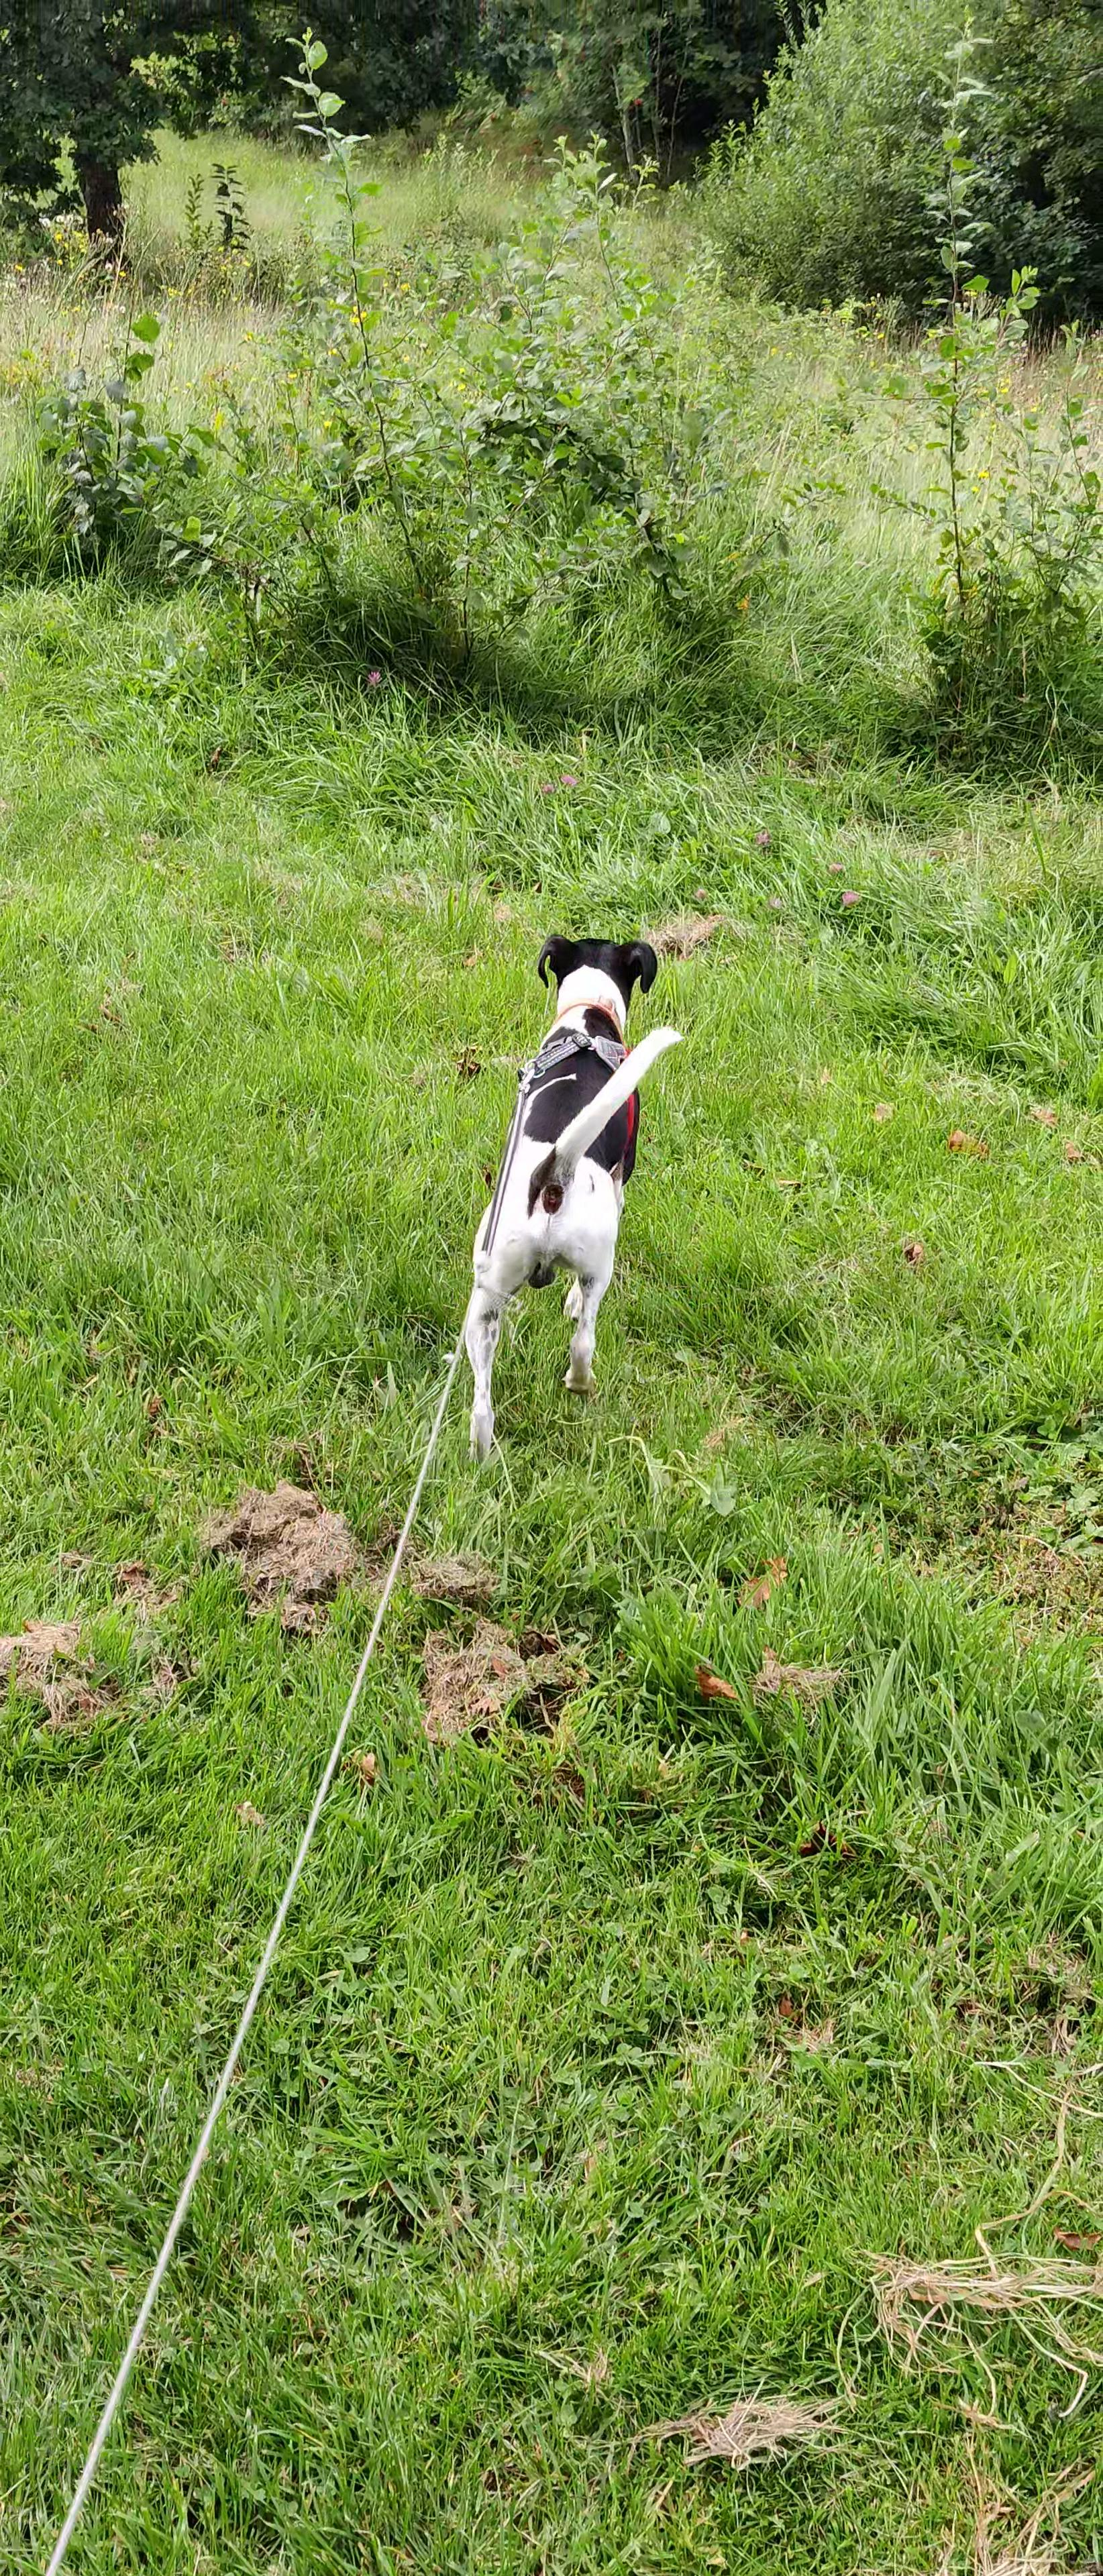Dog: (441, 897, 697, 1493)
